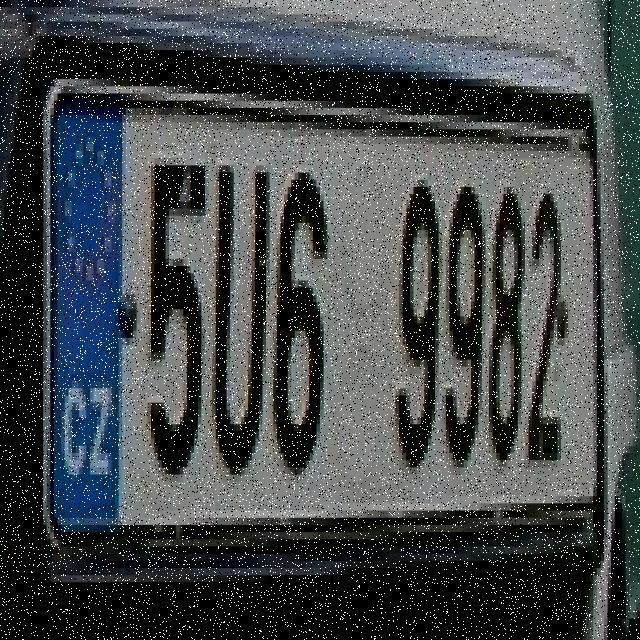LicensePlate: (34, 48, 613, 575)
